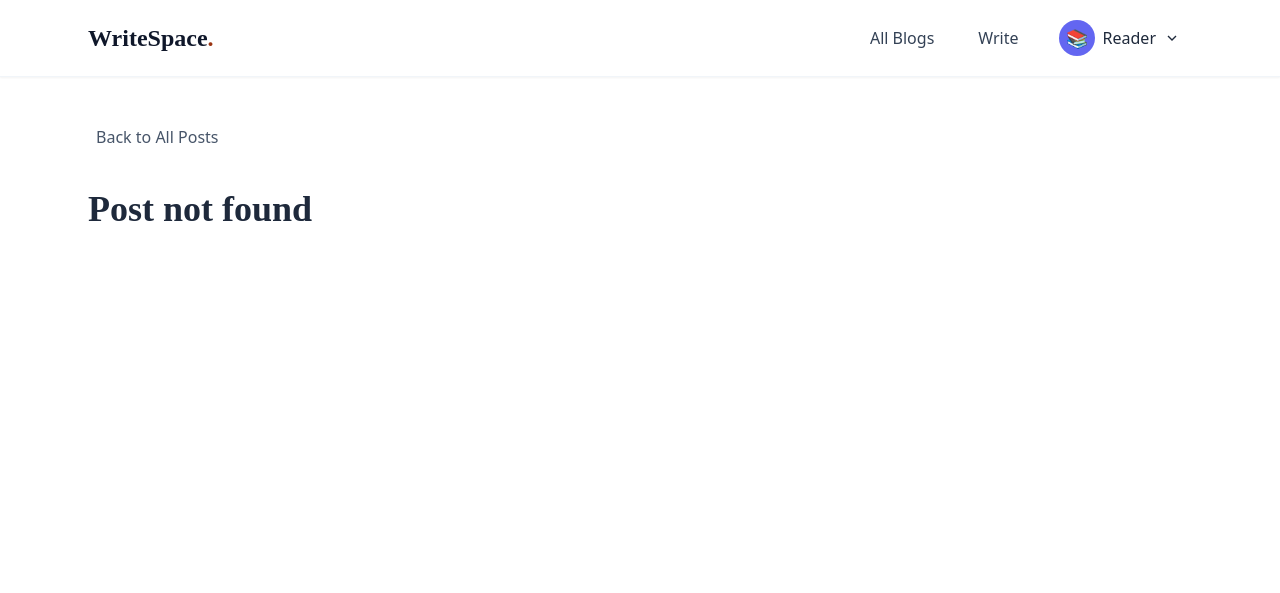
shows missing state and working back link at /blog/missing
Expected: the heading "Post not found" is shown, [88,189,312,229]
Click the link "Back to All Posts" at (157, 137), box [96,126,218,148]
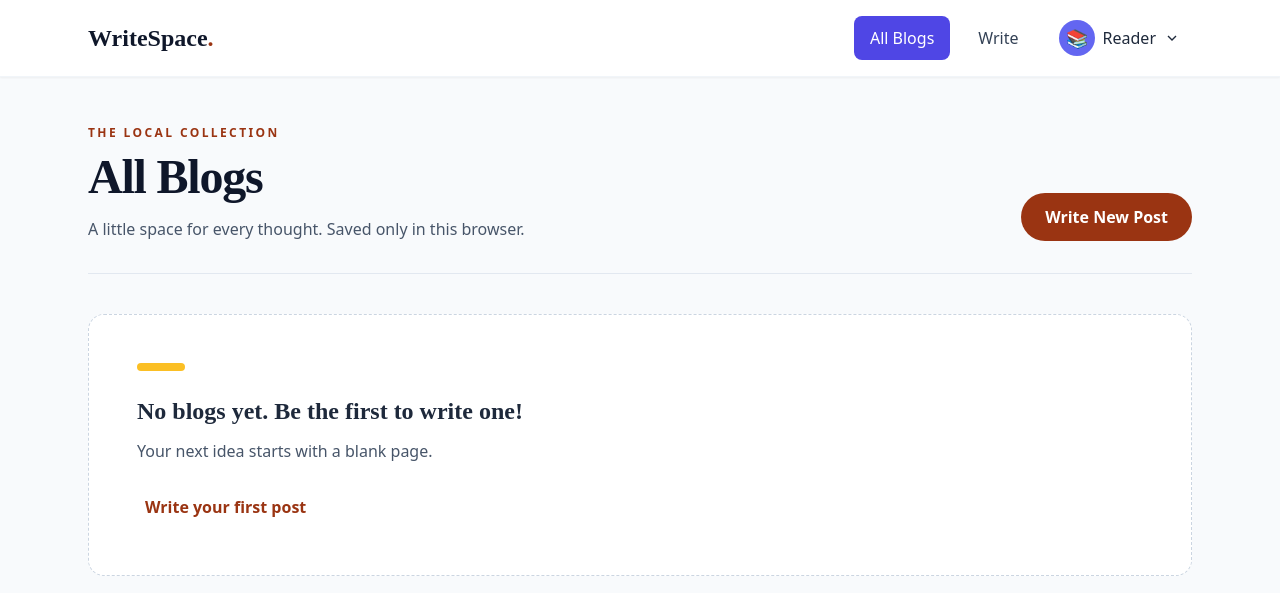
Expected: the heading "All Blogs" is shown, [88,150,263,203]
